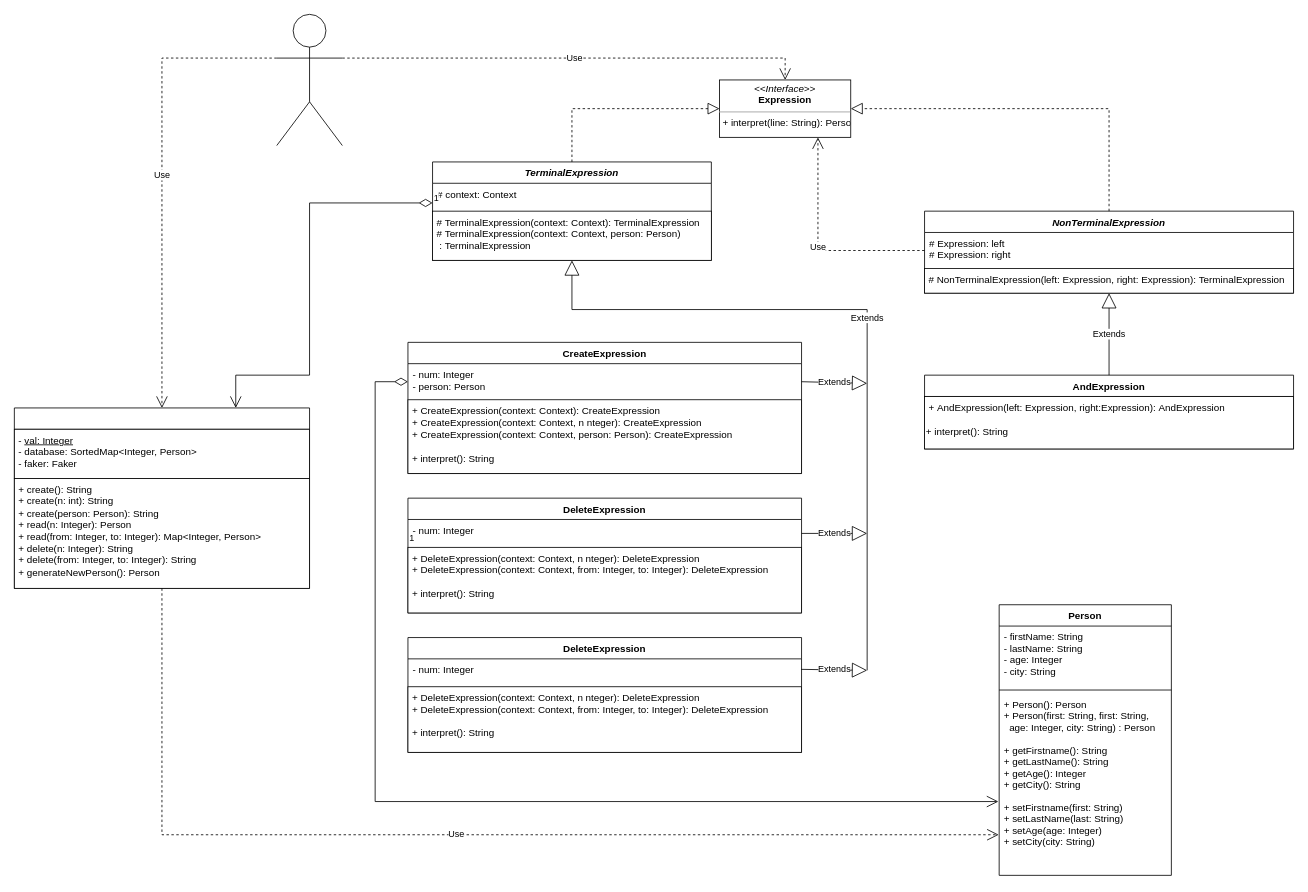
This 1308x892 diagram has some shape labels left out. Here are the shapes that lost their labels. From the top down, the box of each, then its label:
(276, 14, 342, 146): Actor
(14, 407, 310, 588): Context
